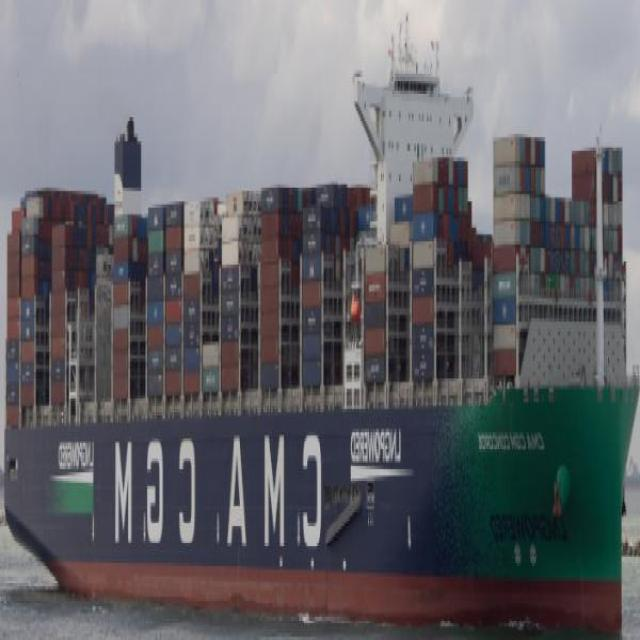Container Ship: (1, 14, 635, 634)
